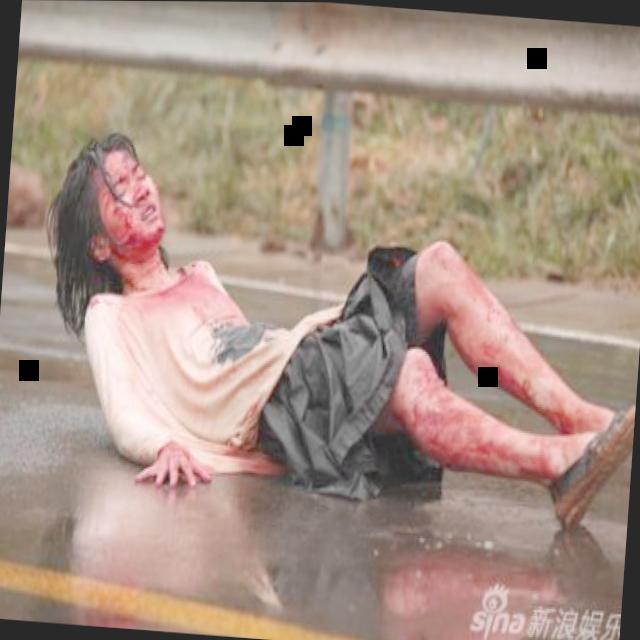Fall-Detected: (14, 47, 640, 571)
